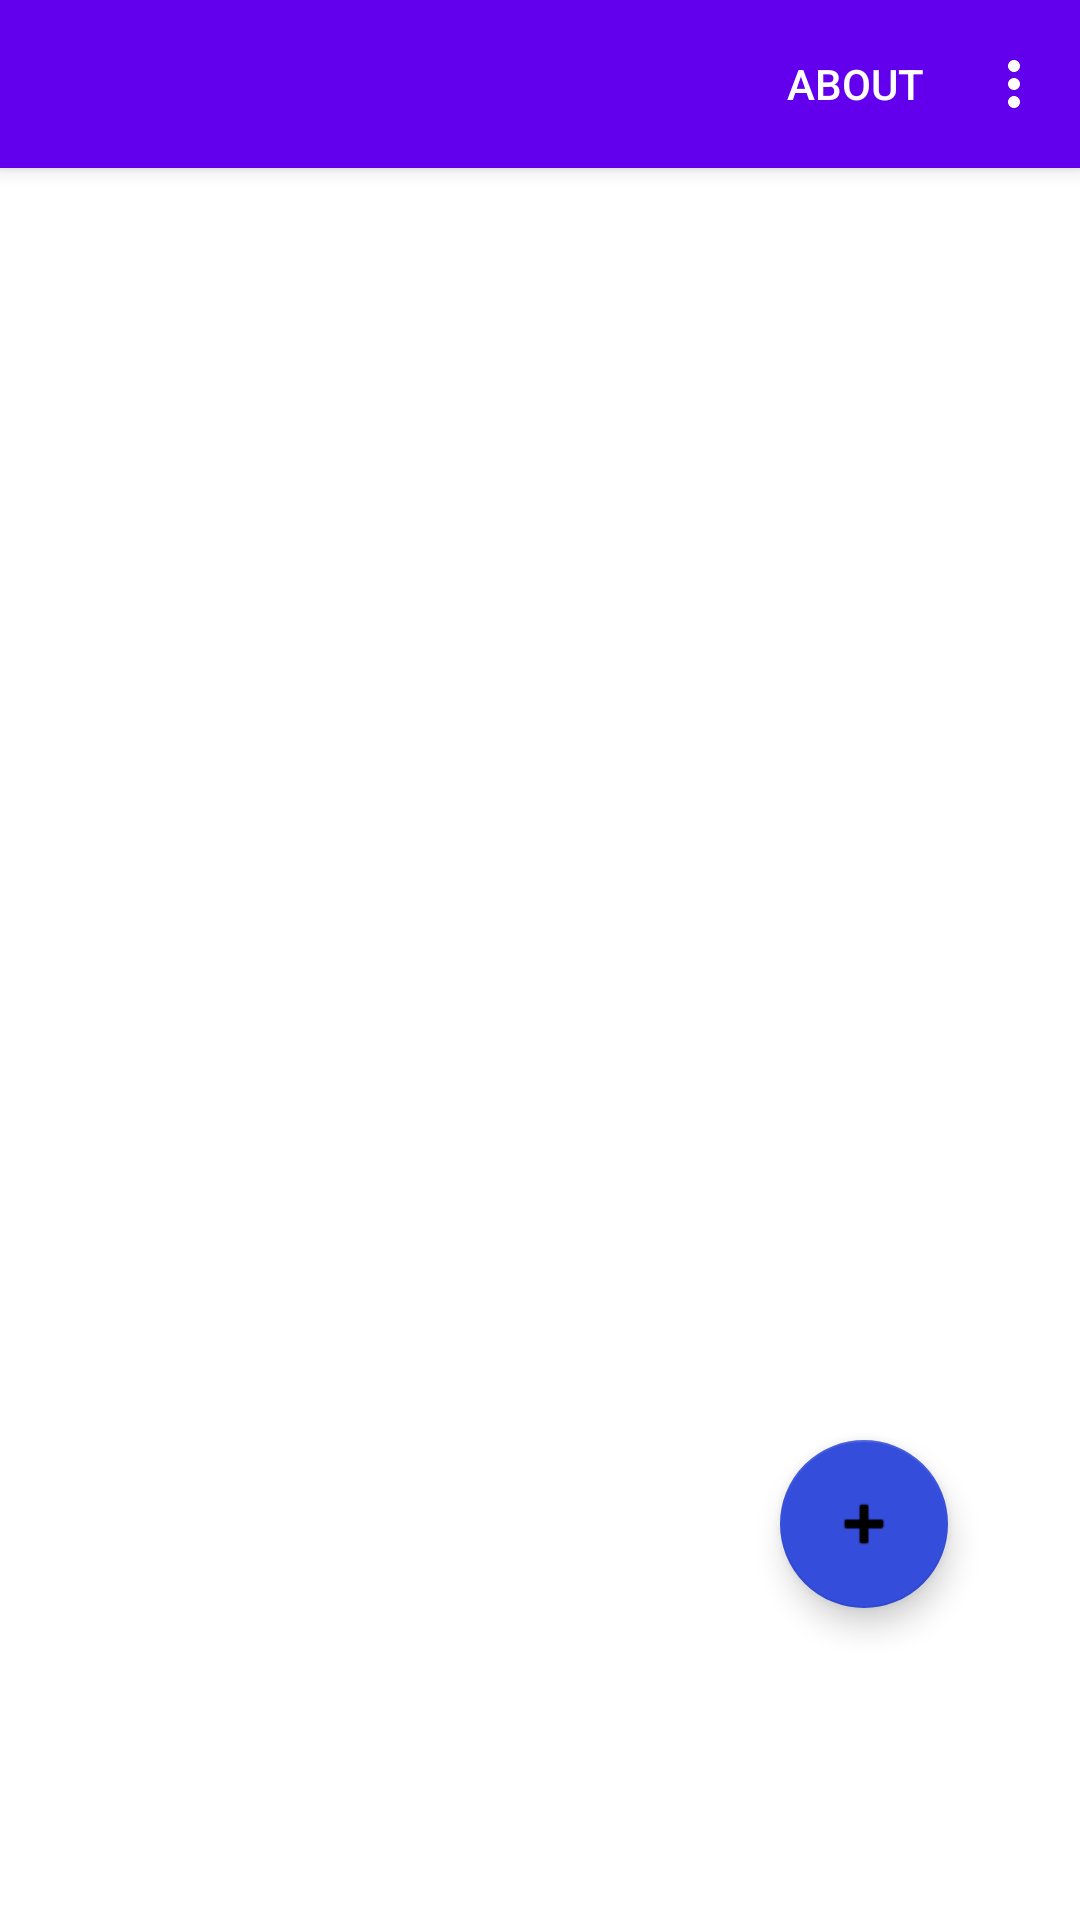

Screen size 1080*1920. Icon name, then its center in pixels as (x,y):
add: (864,1524)
